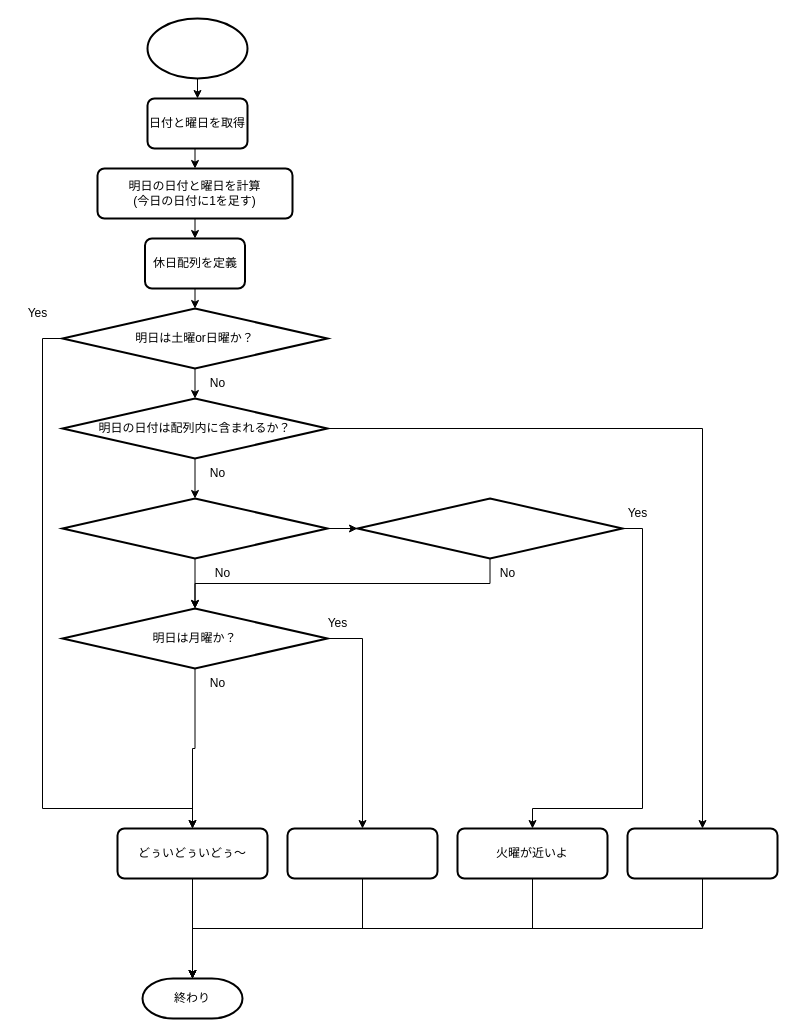
The diagram is 795 pixels wide and 1036 high, and some of its shapes have lost their labels. The shapes that lost their labels are listed below. From the top down, each one's centre as x and y in pixels, then its label:
At pixel 197 48: "毎日実行".
At pixel 194 528: "今日の日付は配列内に含まれるか？".
At pixel 489 528: "明日は火曜か？".
At pixel 362 853: "月曜が近いよ".
At pixel 702 853: "休日だよ".
